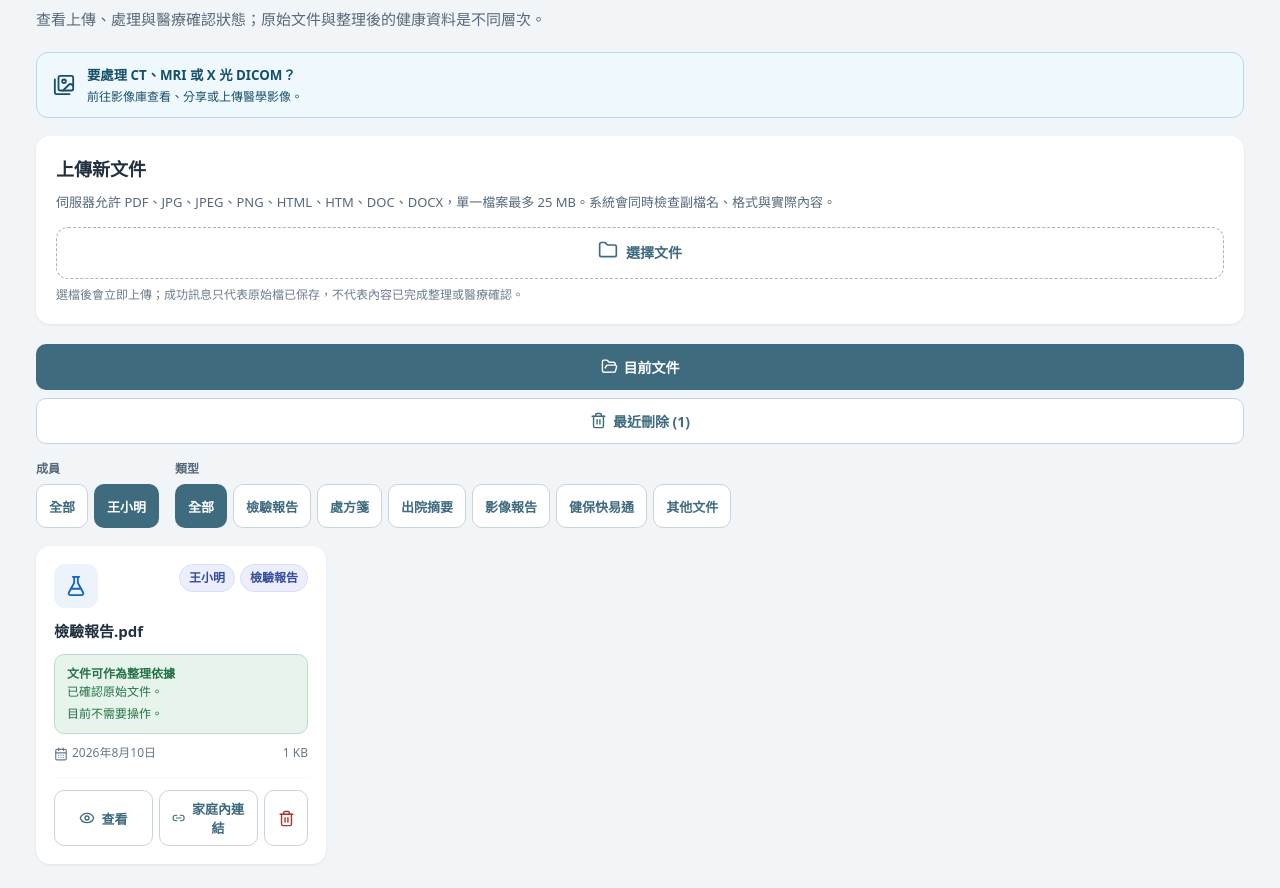
document recovery UX › moves a document to recent deletion and restores it without a native confirm
(page scrolled)
Expected: the heading "檢驗報告.pdf" is shown, [54,621,143,641]
Click the button named "移到最近刪除：檢驗報告.pdf". click: (286, 818)
box: [264,790,308,846]
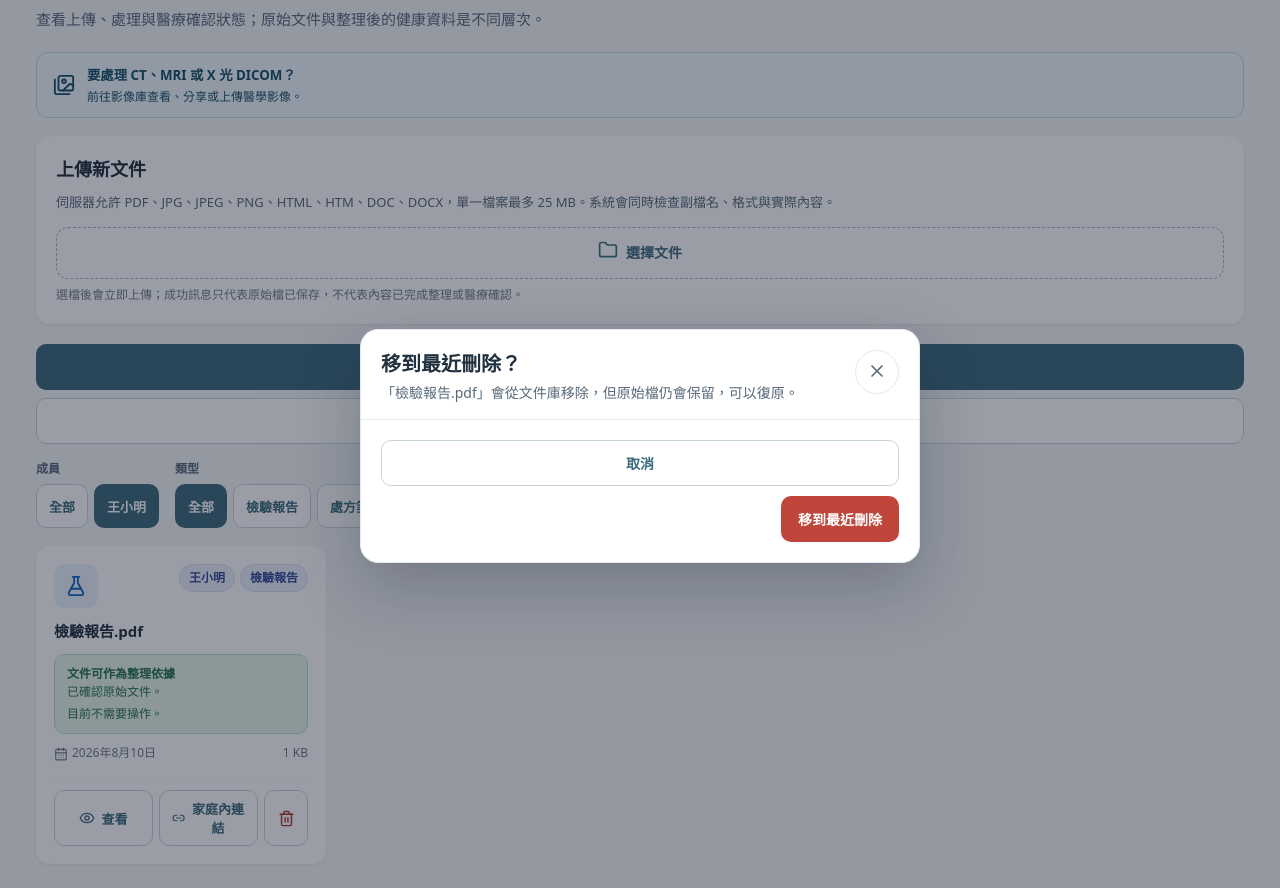
Expected: the dialog "移到最近刪除？" shows "可以復原", [381,383,799,402]
Click the button "移到最近刪除". click: (840, 519)
box: [781,496,899,542]
(page scrolled)
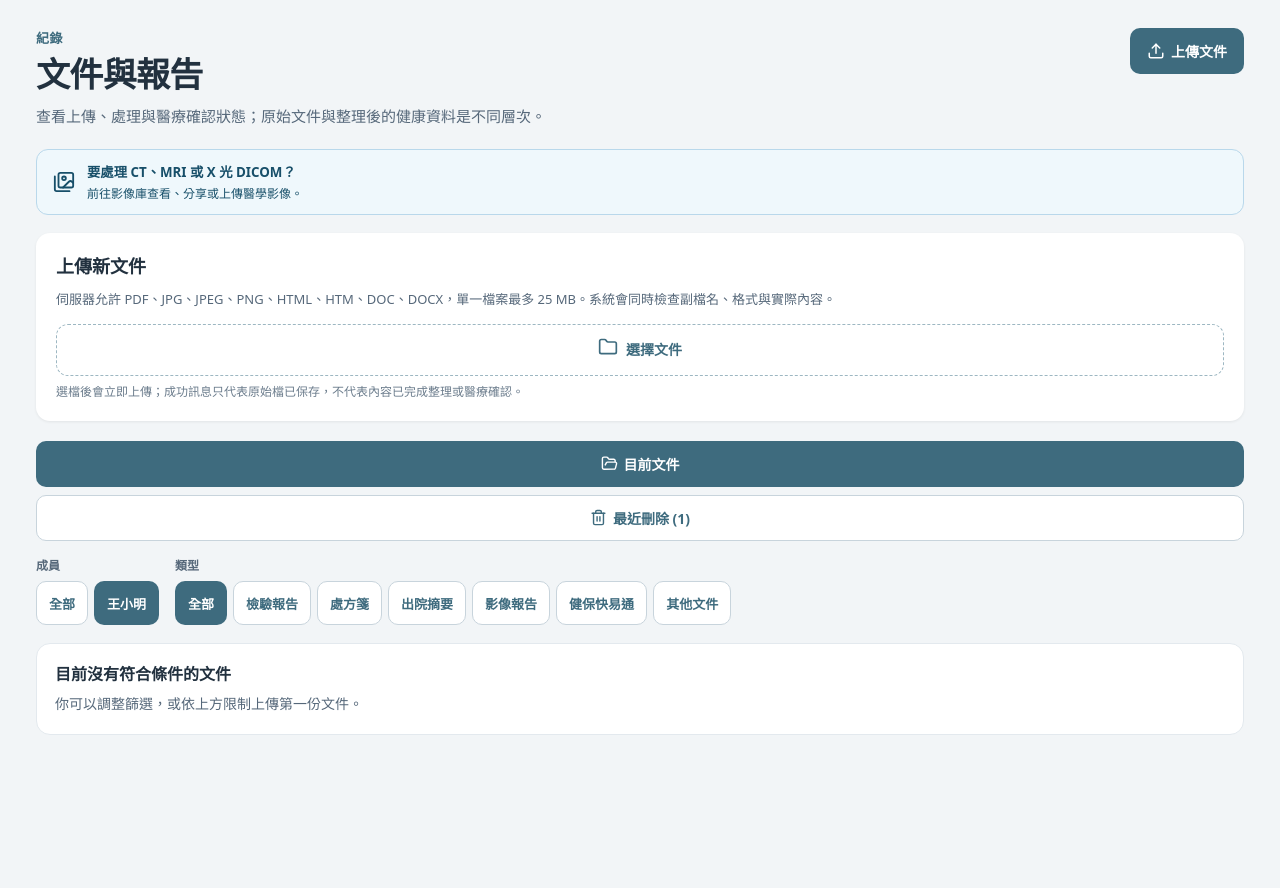
Expected: the heading "檢驗報告.pdf" is gone
Click the tab "最近刪除 (1)". click: (640, 518)
box: [36,495,1244,541]
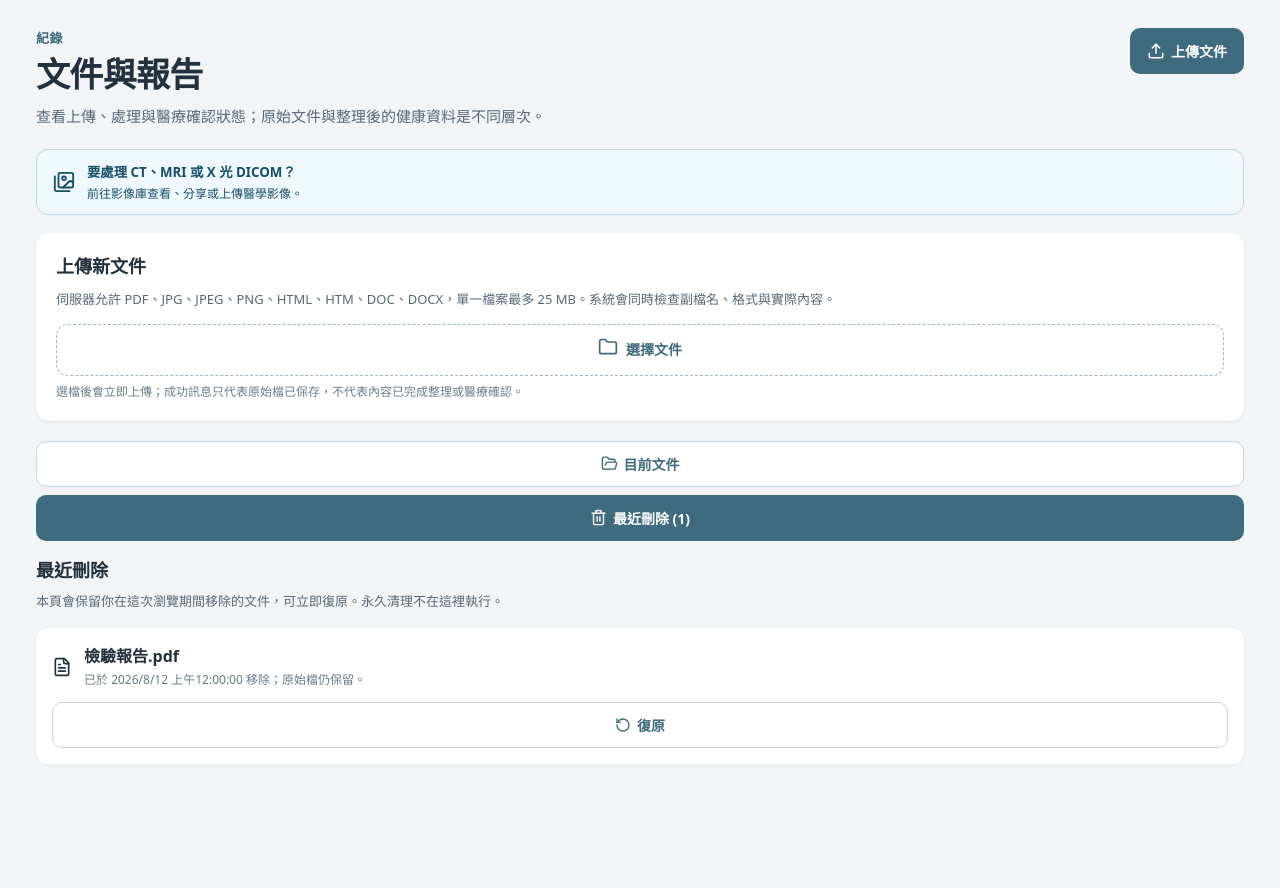
Expected: the text "檢驗報告.pdf" is shown, [84,644,179,666]
Click the button "復原". click: (640, 725)
box: [52,702,1228,748]
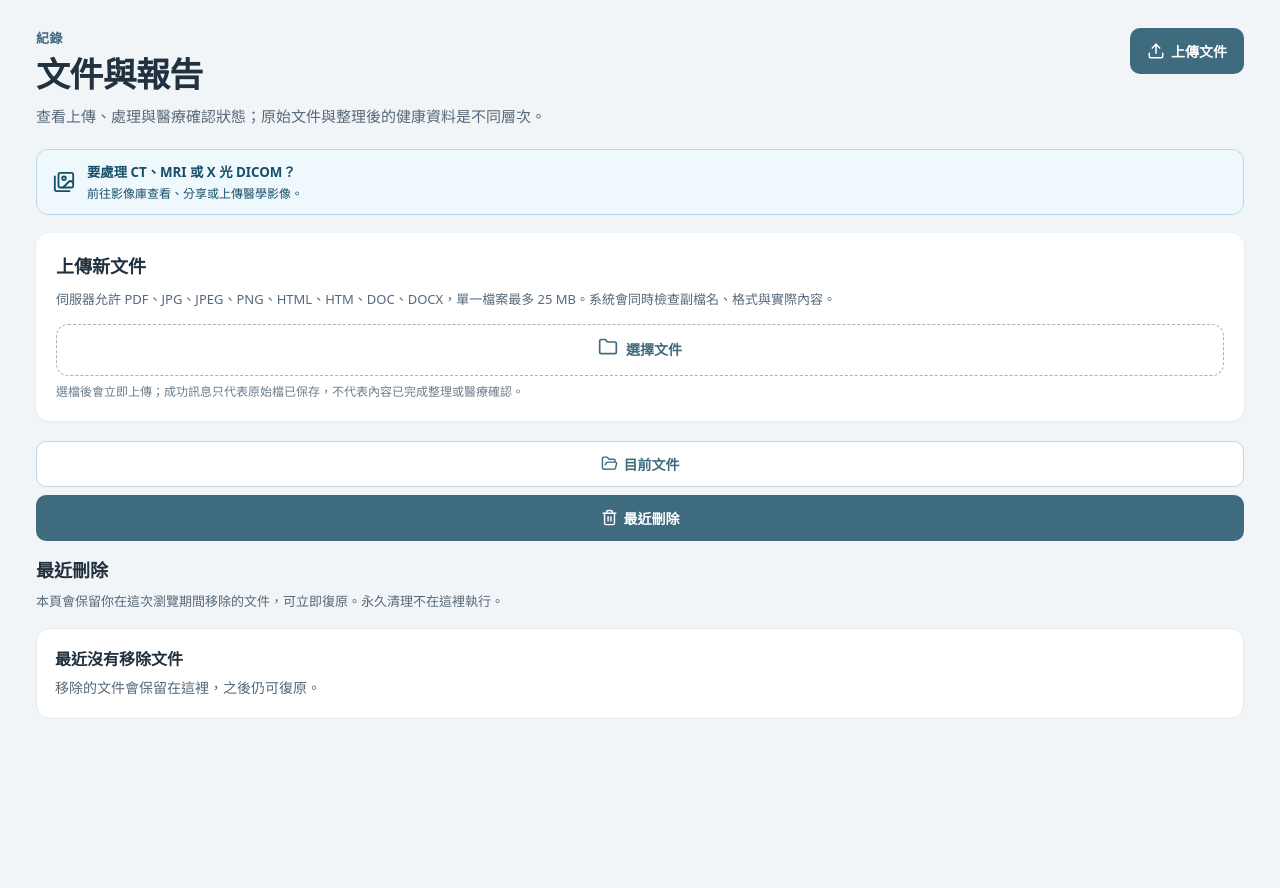
Expected: the text "檢驗報告.pdf" is gone
Click the tab "目前文件". click: (640, 464)
box: [36,441,1244,487]
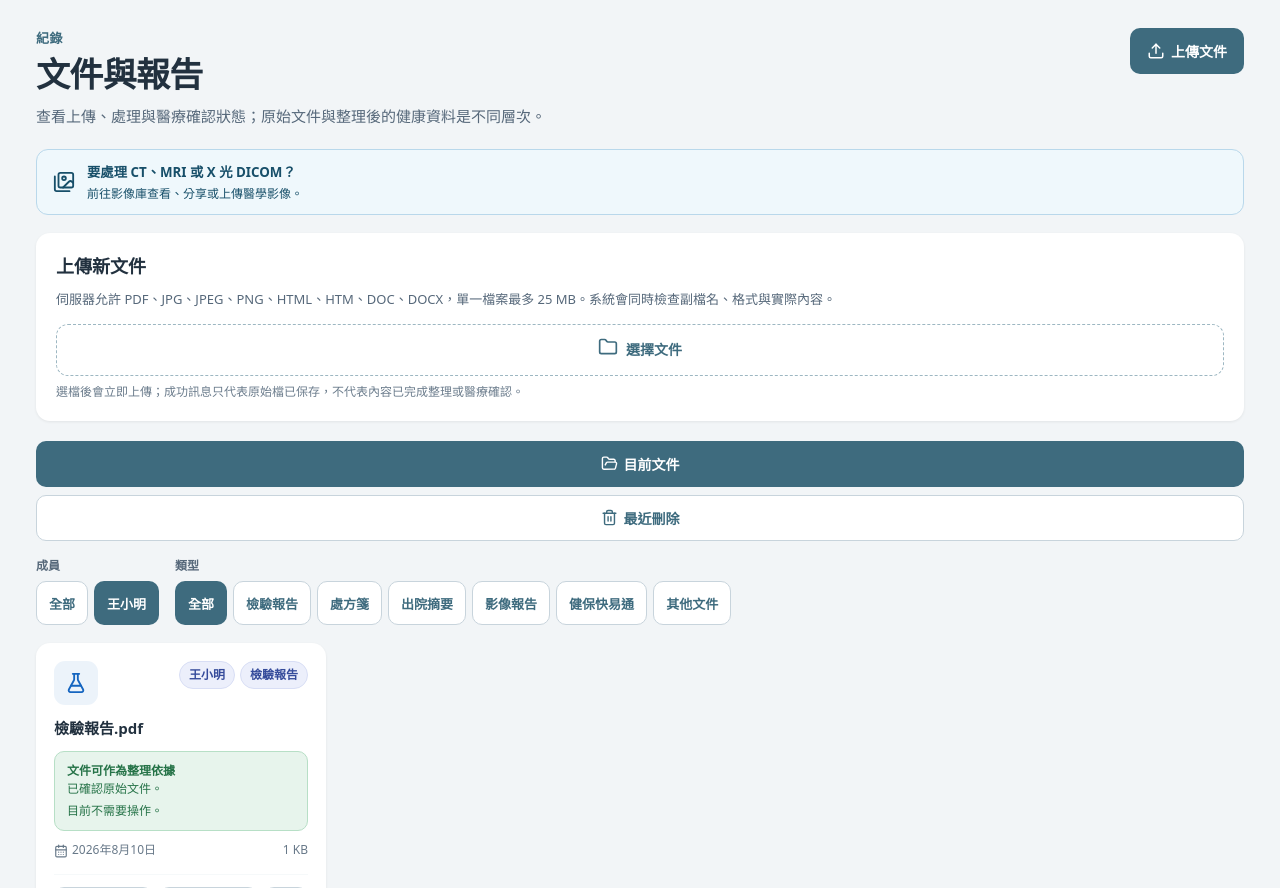
Expected: the heading "檢驗報告.pdf" is shown, [54,718,143,738]
